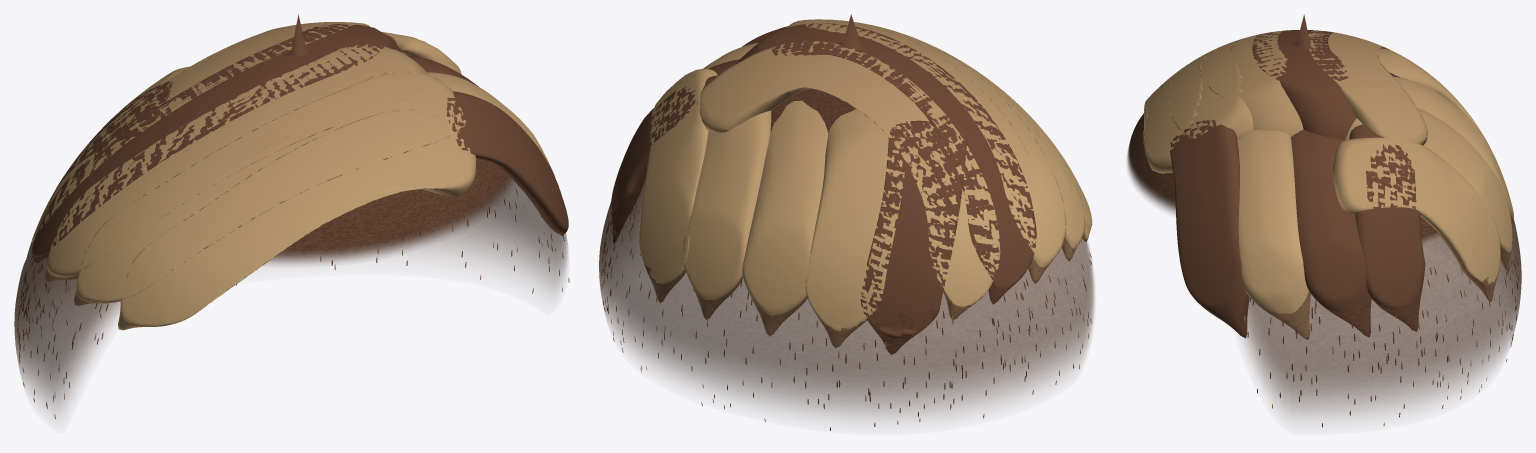
File: Highlights-33bdc54936c0251-hair.glb
3 views of the same model, side by side, from view 1: azimuth 30°, elevation 25°; view 2: azimuth 150°, elevation 25°; view 3: azimuth 270°, elevation 25° (orthographic). The views are drawn at different scales.
Parts seen in each view (by area): view 1: 226 hair / Hair / main251.001, 226 hair / Hair / clipped grain251.001, 226 hair / Hair / close cut strokes251.001; view 2: 226 hair / Hair / main251.001, 226 hair / Hair / clipped grain251.001, 226 hair / Hair / close cut strokes251.001; view 3: 226 hair / Hair / main251.001, 226 hair / Hair / clipped grain251.001, 226 hair / Hair / close cut strokes251.001.
Boxes of the visible parts, x1,y1,x2,y2 form: 226 hair / Hair / main251.001: (31, 14, 568, 330); 226 hair / Hair / clipped grain251.001: (14, 158, 567, 414); 226 hair / Hair / close cut strokes251.001: (17, 185, 569, 418); 226 hair / Hair / main251.001: (611, 14, 1092, 354); 226 hair / Hair / clipped grain251.001: (599, 88, 1094, 419); 226 hair / Hair / close cut strokes251.001: (602, 202, 1092, 430); 226 hair / Hair / main251.001: (1143, 14, 1513, 339); 226 hair / Hair / clipped grain251.001: (1127, 72, 1521, 418); 226 hair / Hair / close cut strokes251.001: (1236, 252, 1518, 427).
Size of the model in its own units: 0.9812 by 0.6891 by 0.752.
Materials: 4 (1 with a texture image).
